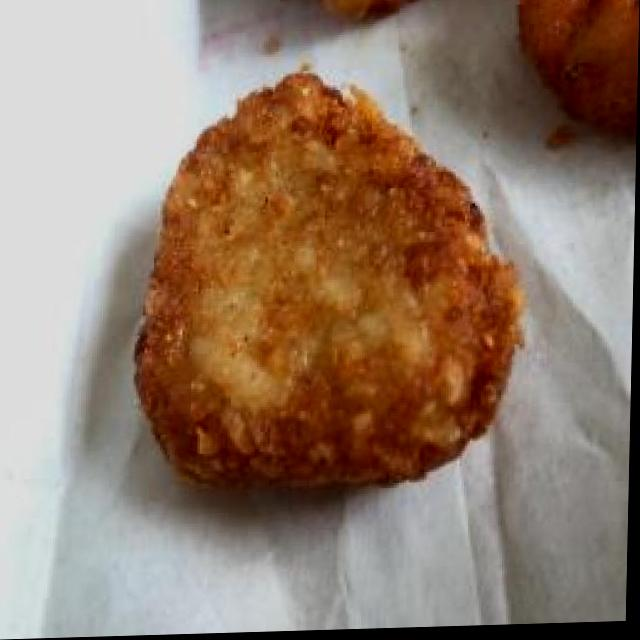triangle_hash_brown: (126, 60, 537, 505)
